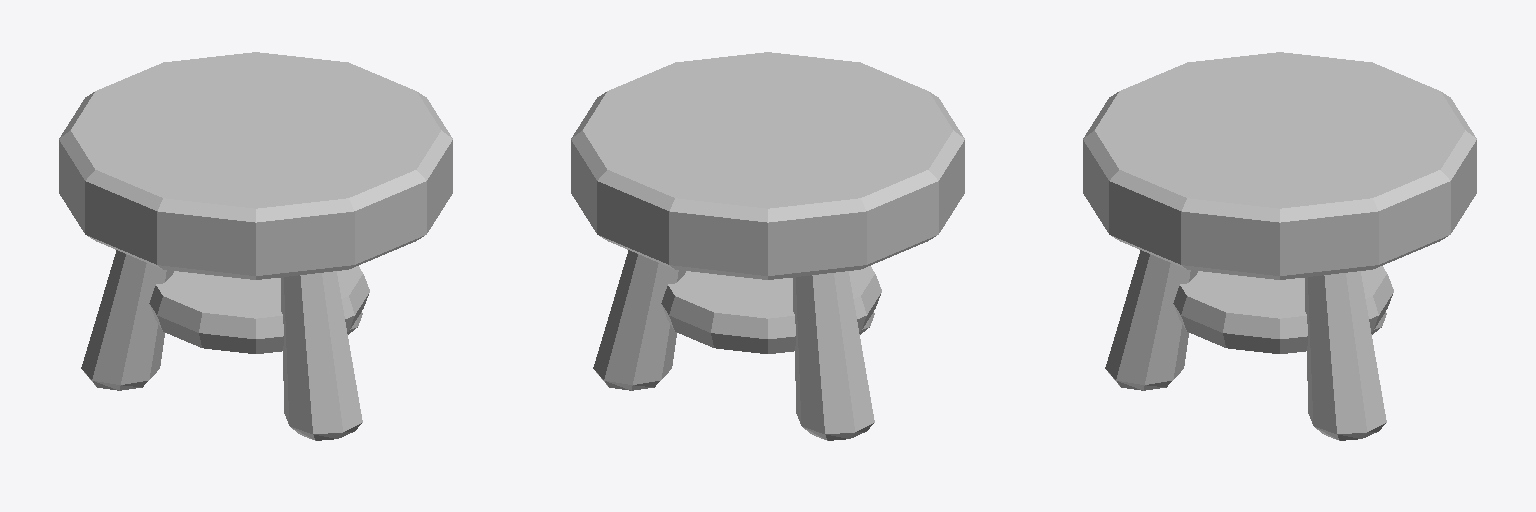
File: stool.obj
3 views of the same model, side by side, from view 1: azimuth 30°, elevation 25°; view 2: azimuth 150°, elevation 25°; view 3: azimuth 270°, elevation 25° (orthographic).
Visible parts, largest first — view 1: stool; view 2: stool; view 3: stool.
Part boxes in pixels (bbox=[...]): stool: bbox=[59, 52, 452, 440]; stool: bbox=[571, 52, 964, 440]; stool: bbox=[1083, 52, 1476, 440].
Bounding box in the file's own units: 1 × 0.7029 × 1.